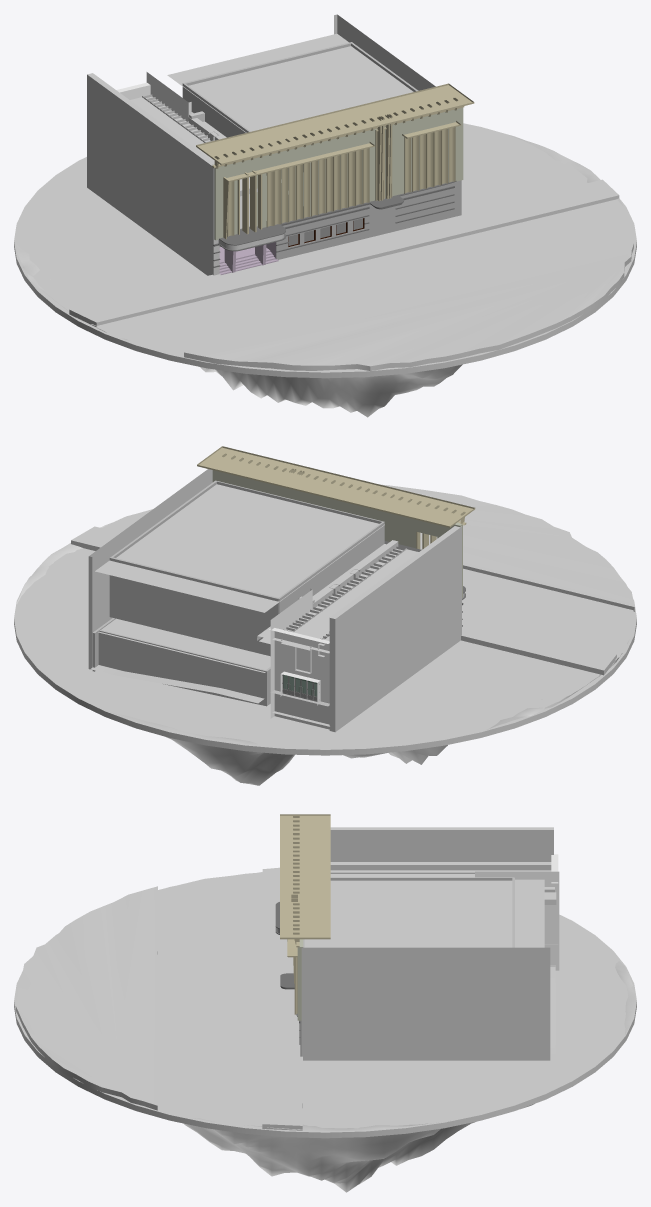
Rendered from Cinema Sao Jorge.fbx.
3 renders of one model, top to bottom at view 1: azimuth 30°, elevation 25°; view 2: azimuth 150°, elevation 25°; view 3: azimuth 270°, elevation 25°, orthographic.
Parts seen in each view (by area): view 1: Big_sidewalk, Cylinder, Road, Decorative_roof, Outside_Left_wall, Room_1_ceiling, Island, FRONT_WALL, FRONT_WINDOWS, Decorative_Horizontal_Lines, Room1_walls, TopLobby_ceiling (+3 smaller); view 2: Cylinder, Room_1_ceiling, Outside_Left_wall, Big_sidewalk, Room1_walls, Road, Decorative_roof, Room_2_3_Walls, Island, TopLobby_ceiling, Outside_Right_wall_, FRONT_WALL (+5 smaller); view 3: Big_sidewalk, Cylinder, Outside_Right_wall_, Road, Room_1_ceiling, Island, Inside_Left_Wall, Decorative_roof, TopLobby_ceiling, Inside_Stairs_Right_Wall, Room1_walls, Outside_Left_wall (+1 smaller).
Part boxes in pixels (left/top/right/bottom): Big_sidewalk: left=69, top=179, right=633, bottom=370; Cylinder: left=14, top=123, right=636, bottom=378; Road: left=91, top=199, right=632, bottom=355; Decorative_roof: left=196, top=83, right=474, bottom=238; Outside_Left_wall: left=87, top=73, right=219, bottom=275; Room_1_ceiling: left=167, top=33, right=413, bottom=132; Island: left=16, top=134, right=623, bottom=417; FRONT_WALL: left=213, top=107, right=463, bottom=240; FRONT_WINDOWS: left=276, top=180, right=461, bottom=259; Decorative_Horizontal_Lines: left=213, top=180, right=456, bottom=267; Room1_walls: left=182, top=42, right=418, bottom=137; TopLobby_ceiling: left=130, top=94, right=257, bottom=196; Cylinder: left=14, top=509, right=636, bottom=755; Room_1_ceiling: left=95, top=484, right=384, bottom=612; Outside_Left_wall: left=329, top=526, right=461, bottom=732; Big_sidewalk: left=71, top=484, right=634, bottom=675; Room1_walls: left=109, top=480, right=384, bottom=656; Road: left=102, top=510, right=633, bottom=660; Decorative_roof: left=197, top=446, right=475, bottom=549; Room_2_3_Walls: left=92, top=618, right=270, bottom=706; Island: left=16, top=524, right=629, bottom=785; TopLobby_ceiling: left=257, top=540, right=421, bottom=656; Outside_Right_wall_: left=88, top=469, right=212, bottom=669; FRONT_WALL: left=212, top=470, right=462, bottom=597; Big_sidewalk: left=15, top=867, right=302, bottom=1130; Cylinder: left=14, top=873, right=636, bottom=1138; Outside_Right_wall_: left=301, top=947, right=550, bottom=1060; Road: left=157, top=872, right=262, bottom=1125; Room_1_ceiling: left=304, top=879, right=544, bottom=947; Island: left=184, top=872, right=635, bottom=1192; Inside_Left_Wall: left=330, top=830, right=553, bottom=861; Decorative_roof: left=280, top=814, right=330, bottom=1014; TopLobby_ceiling: left=330, top=862, right=556, bottom=904; Inside_Stairs_Right_Wall: left=475, top=871, right=559, bottom=970; Room1_walls: left=303, top=877, right=514, bottom=947; Outside_Left_wall: left=330, top=827, right=553, bottom=829.
Size of the model in its own units: 6905 by 3469 by 6902.
